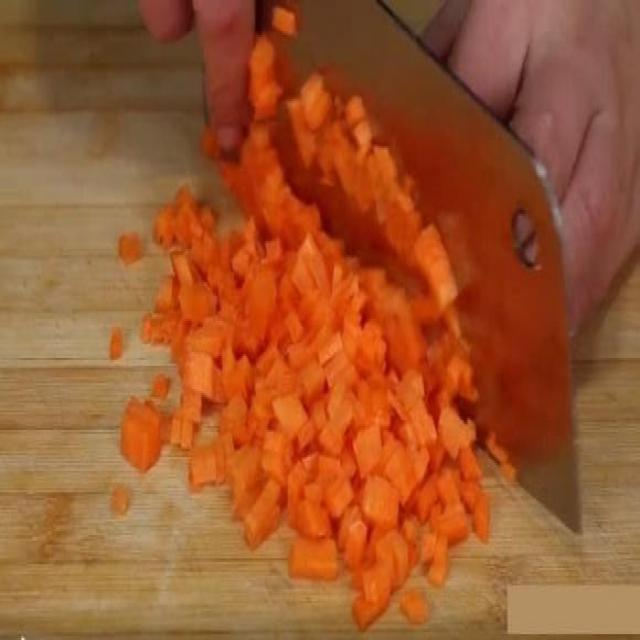ca rot: (143, 80, 488, 626)
